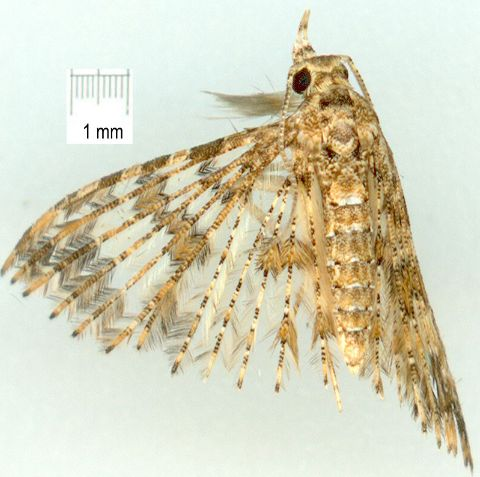Alucitidae: (3, 6, 474, 471)
moth: (1, 4, 472, 469)
